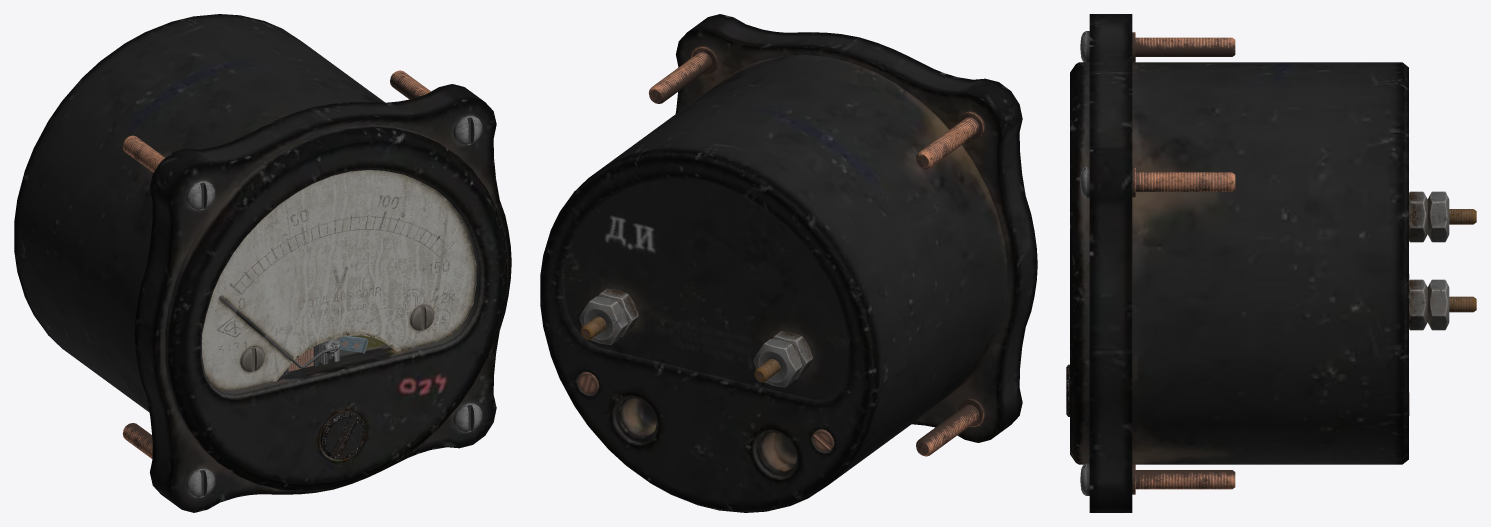
The model's file is voltmeter-rusty.glb.
The picture shows the model from 3 angles, left to right: view 1: azimuth 30°, elevation 25°; view 2: azimuth 150°, elevation 25°; view 3: azimuth 270°, elevation 25°; orthographic projection. The views are drawn at different scales.
Visible parts, largest first — view 1: Mainframe_LP_MainFrame_0, Screen_LP_Material.002_0, Nut1_LP_nails_0, Bar1_LP_Det_0, Front_LP_Material.001_0, Nut2_LP_FrontDet_0; view 2: Mainframe_LP_MainFrame_0, Bar1_LP_Det_0, Bolt_LP_Nuts_0, Bar2_LP_Back_0, Back_LP_DetBack_0; view 3: Mainframe_LP_MainFrame_0, Bar1_LP_Det_0, Bolt_LP_Nuts_0, Bar2_LP_Back_0, Nut1_LP_nails_0.
Part boxes in pixels (x1,y1,x2,y2): Mainframe_LP_MainFrame_0: (14, 14, 511, 512); Screen_LP_Material.002_0: (202, 170, 476, 390); Nut1_LP_nails_0: (186, 115, 482, 497); Bar1_LP_Det_0: (122, 70, 430, 459); Front_LP_Material.001_0: (320, 411, 365, 459); Nut2_LP_FrontDet_0: (240, 305, 433, 371); Mainframe_LP_MainFrame_0: (540, 14, 1037, 512); Bar1_LP_Det_0: (649, 46, 985, 456); Bolt_LP_Nuts_0: (579, 288, 812, 387); Bar2_LP_Back_0: (580, 316, 780, 382); Back_LP_DetBack_0: (577, 372, 834, 451); Mainframe_LP_MainFrame_0: (1070, 14, 1408, 512); Bar1_LP_Det_0: (1132, 32, 1235, 494); Bolt_LP_Nuts_0: (1409, 191, 1449, 330); Bar2_LP_Back_0: (1449, 209, 1476, 312); Nut1_LP_nails_0: (1080, 31, 1089, 495).
Size of what is drawn, in the model's own units: 0.2031 by 0.2 by 0.1955.
16 materials, 16 textured.
